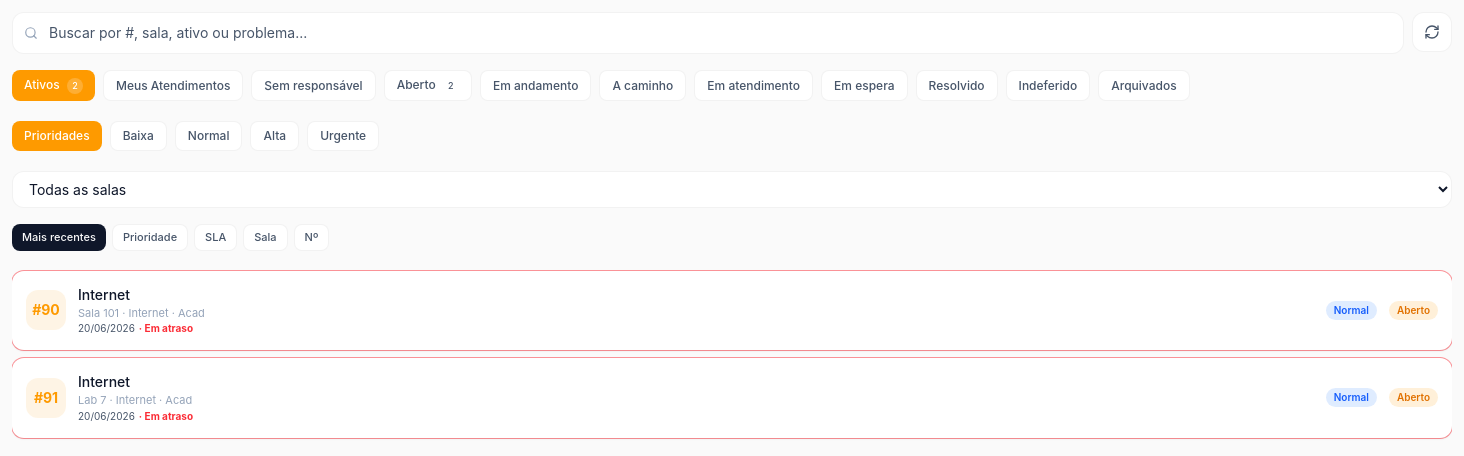
it: TicketList — a fila operacional não é a área pessoal › "Meus Atendimentos" e "Sem responsável" seguem mutuamente exclusivos
Click the button "Meus Atendimentos". click: (173, 86)
box: [103,70,243,101]
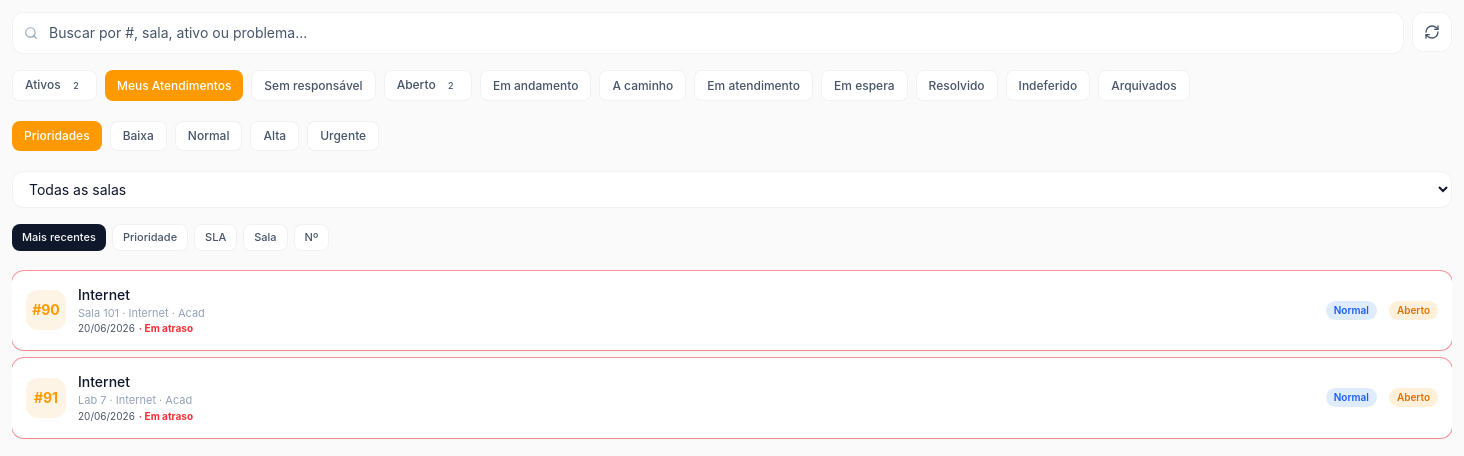
Click the button "Sem responsável". click: (313, 86)
box: [251,70,376,101]
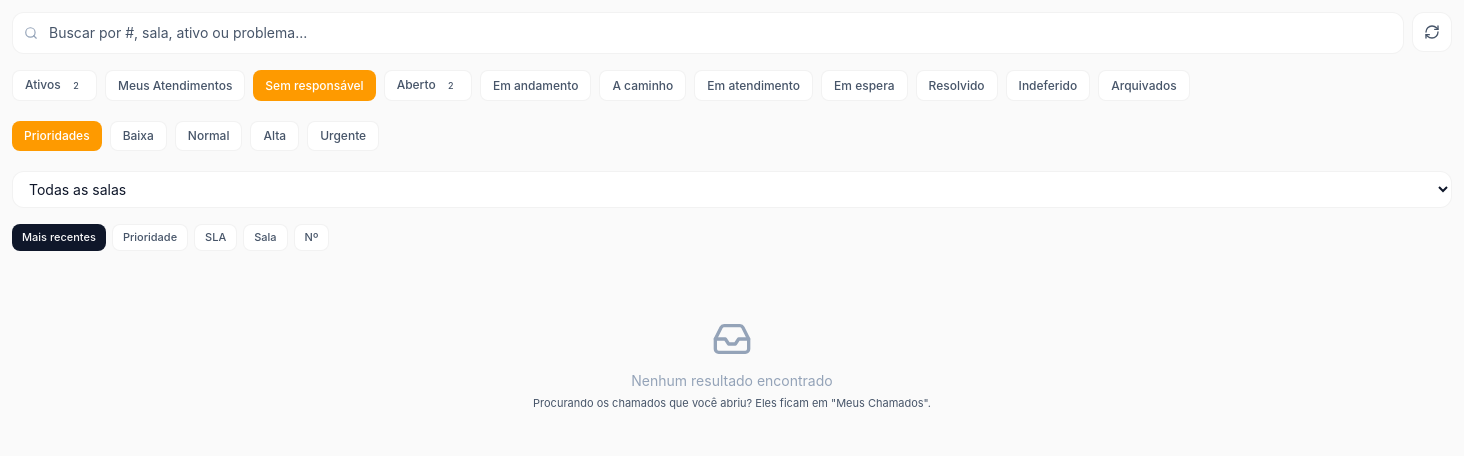
Now the button "#90" is gone
Now the button "#91" is gone
